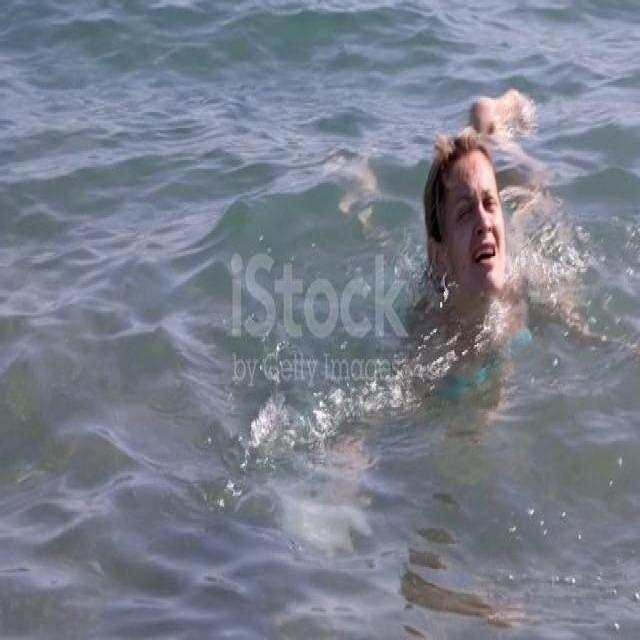Out of Water: (428, 114, 542, 380)
